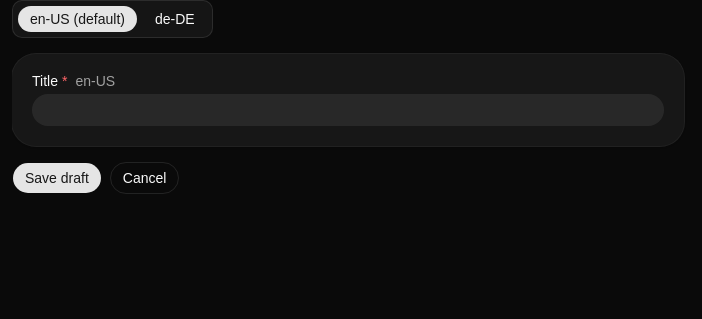
Scenario: EntryForm validation and fallbacks › surfaces errors from a non-active locale: auto-switches tabs and lists a summary
Note: The required error is on en-US, but the editor is looking at de-DE.
Click the button "de-DE": [175, 19] box [142,5,208,33]
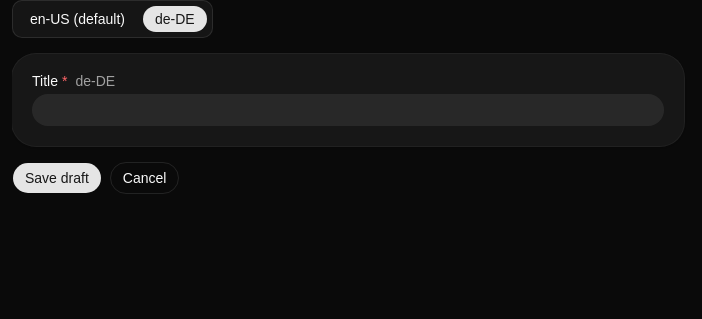
Click the button "Save draft": [57, 178] box [12,162,102,194]
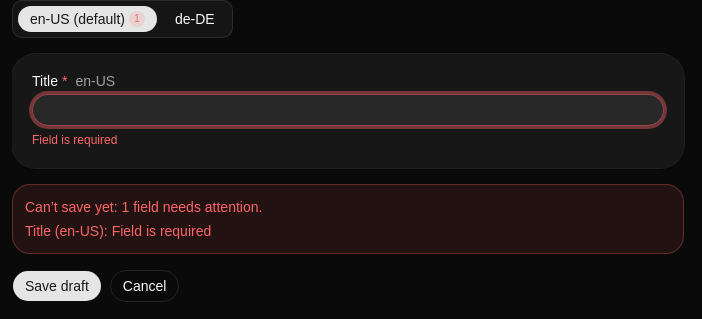
Now the message shows "Title (en-US)", box [12,184,684,254]
Now the text "Field is required" is shown, box [32,133,117,147]
